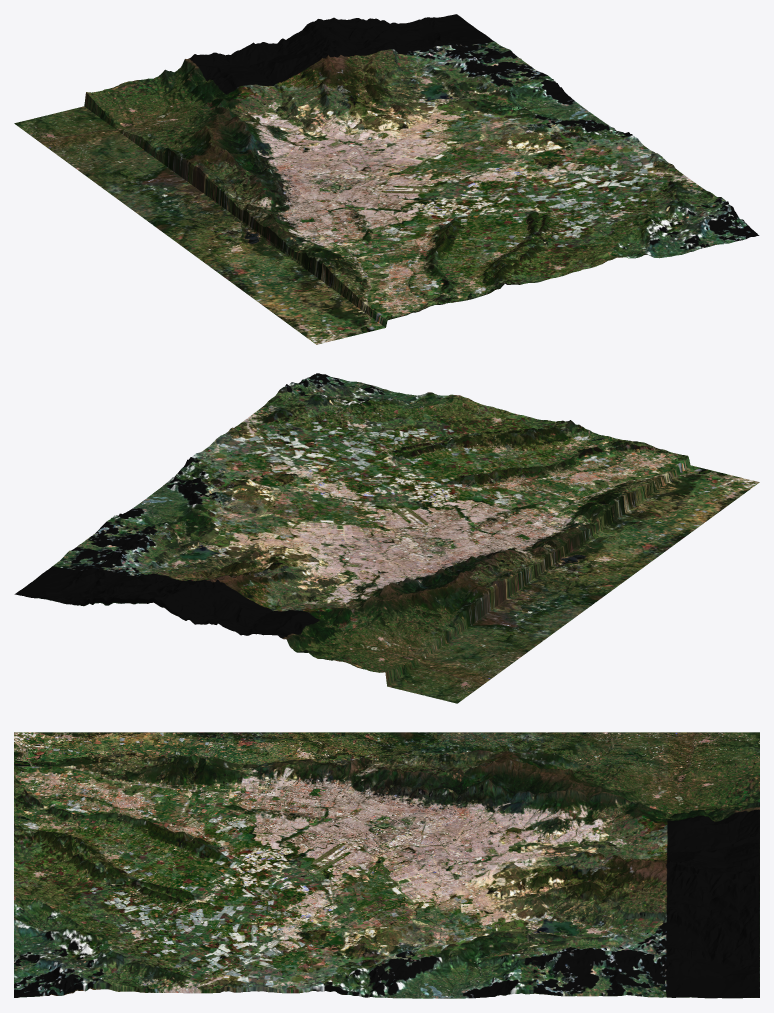
File: terrain.glb
The picture shows the model from 3 angles, top to bottom: view 1: azimuth 30°, elevation 25°; view 2: azimuth 150°, elevation 25°; view 3: azimuth 270°, elevation 25°; orthographic projection. The views are drawn at different scales.
Parts seen in each view (by area): view 1: Terrain; view 2: Terrain; view 3: Terrain.
Boxes of the visible parts, box(x1,y1,x2,y2) form: Terrain: box(14, 14, 759, 344); Terrain: box(14, 373, 759, 703); Terrain: box(14, 732, 759, 998).
Bounding box in the file's own units: 55011 × 3754 × 65016.
Materials: 1 (1 with a texture image).
